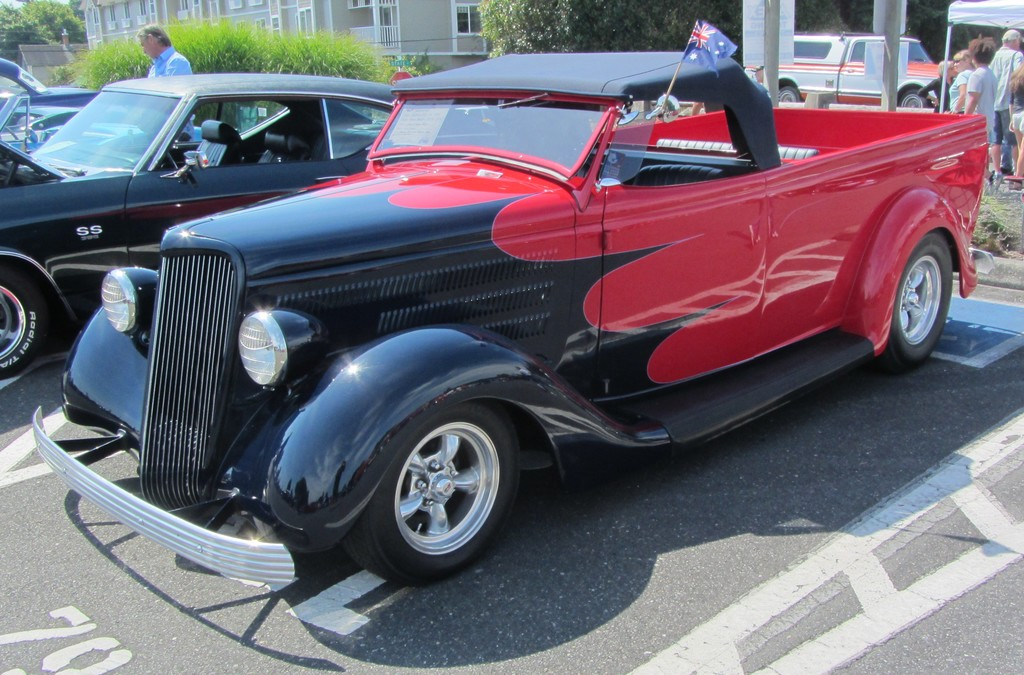cars: (30, 43, 987, 584), (0, 79, 400, 376), (0, 91, 93, 155)
